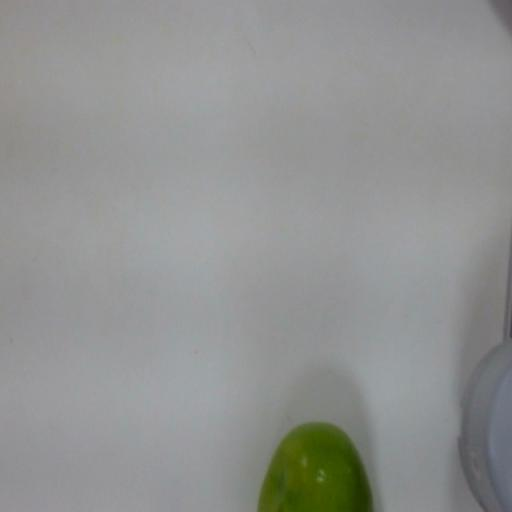Unripe: (256, 407, 375, 512)
